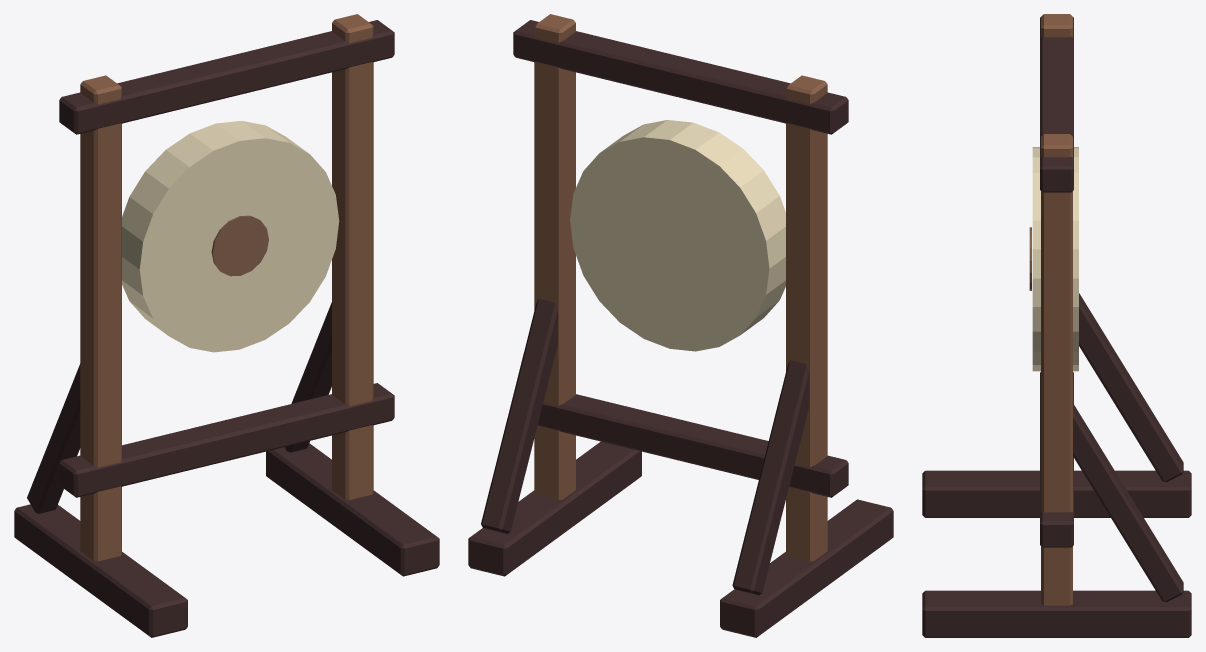
The model's file is thrust_target.glb.
The picture shows the model from 3 angles, left to right: view 1: azimuth 30°, elevation 25°; view 2: azimuth 150°, elevation 25°; view 3: azimuth 270°, elevation 25°; orthographic projection. The views are drawn at different scales.
Visible parts, largest first — view 1: thrust_target_Timber, thrust_target_Plaster, thrust_target_Cedar, thrust_target_Floor; view 2: thrust_target_Timber, thrust_target_Plaster, thrust_target_Cedar; view 3: thrust_target_Timber, thrust_target_Cedar, thrust_target_Plaster.
Boxes of the visible parts, <box> form: thrust_target_Timber: <box>14,20,439,637</box>; thrust_target_Plaster: <box>122,120,339,352</box>; thrust_target_Cedar: <box>80,14,373,561</box>; thrust_target_Floor: <box>211,215,268,276</box>; thrust_target_Timber: <box>468,20,893,637</box>; thrust_target_Plaster: <box>570,120,785,351</box>; thrust_target_Cedar: <box>534,14,827,561</box>; thrust_target_Timber: <box>922,17,1191,637</box>; thrust_target_Cedar: <box>1041,14,1072,605</box>; thrust_target_Plaster: <box>1032,147,1078,371</box>.
Size of the model in its own units: 1.48 by 2.21 by 1.1.
